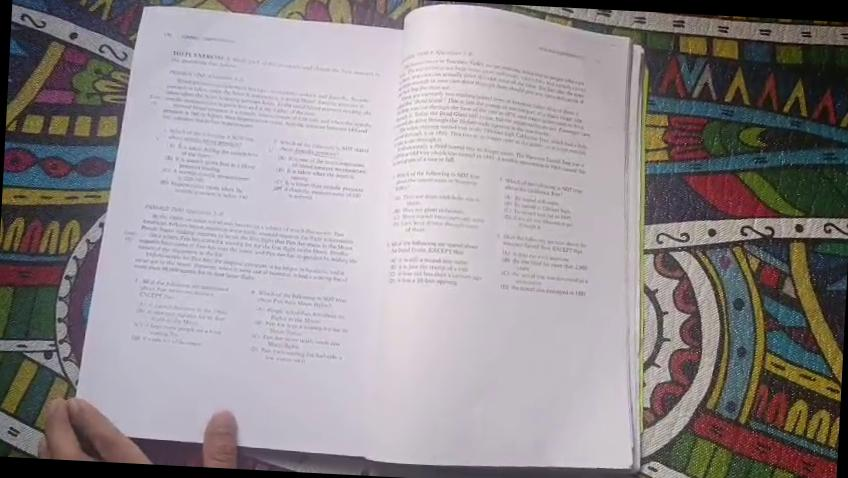Kertas: (115, 16, 436, 418), (372, 29, 642, 478)
